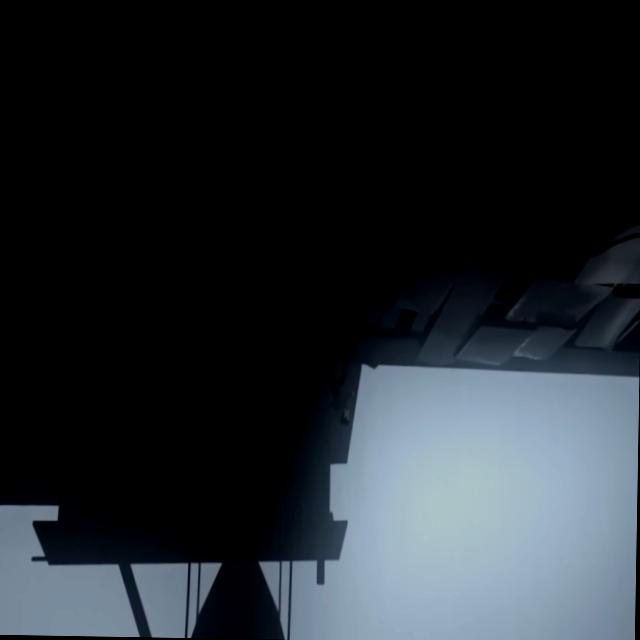boy: (322, 346, 354, 426)
